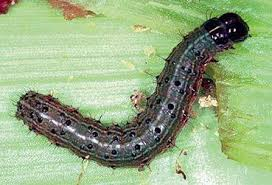Armyworm: (11, 9, 257, 173)
